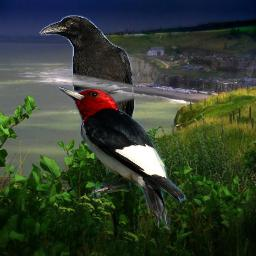Crow: (39, 15, 136, 140)
Woodpecker: (54, 86, 189, 233)
